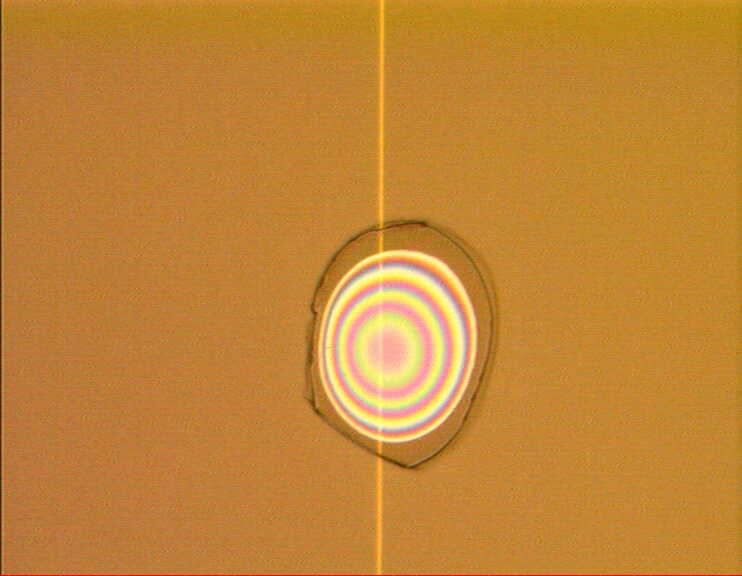PIQ PARTICLE: (278, 217, 534, 473)
